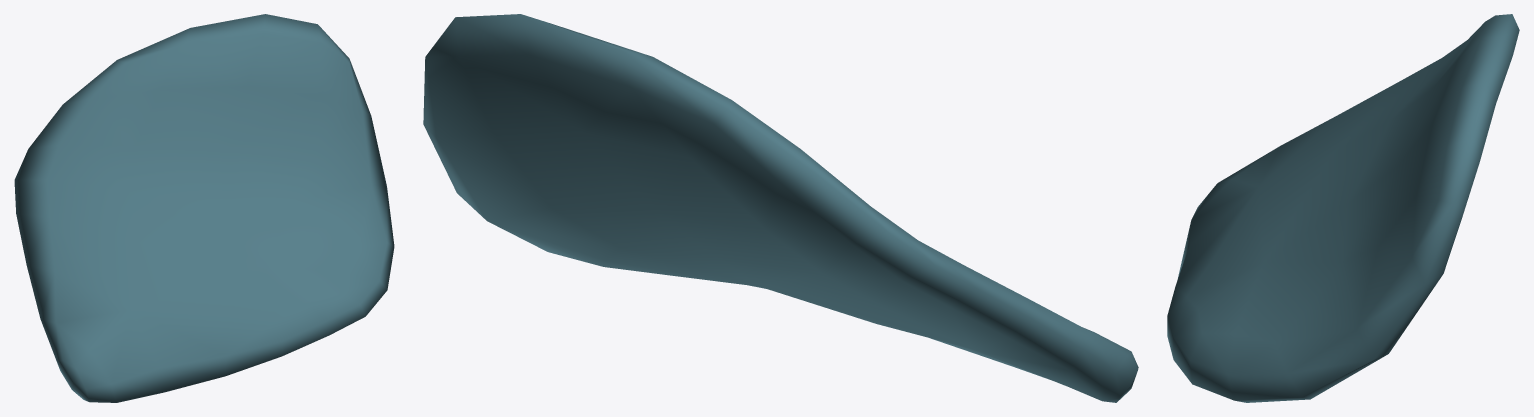
Rendered from Obliquus_inferior_capitis_on_transverse_process_of_atlas.l_Gene.glb.
The picture shows the model from 3 angles, left to right: view 1: azimuth 30°, elevation 25°; view 2: azimuth 150°, elevation 25°; view 3: azimuth 270°, elevation 25°; orthographic projection. The views are drawn at different scales.
Parts seen in each view (by area): view 1: Obliquus_inferior_capitis_on_transverse_process_of_atlas.l_G; view 2: Obliquus_inferior_capitis_on_transverse_process_of_atlas.l_G; view 3: Obliquus_inferior_capitis_on_transverse_process_of_atlas.l_G.
Part boxes in pixels (bbox=[...]): Obliquus_inferior_capitis_on_transverse_process_of_atlas.l_G: bbox=[14, 14, 394, 402]; Obliquus_inferior_capitis_on_transverse_process_of_atlas.l_G: bbox=[423, 14, 1138, 402]; Obliquus_inferior_capitis_on_transverse_process_of_atlas.l_G: bbox=[1167, 14, 1519, 402].
Size of the model in its own units: 0.00515 by 0.00325 by 0.00304.
